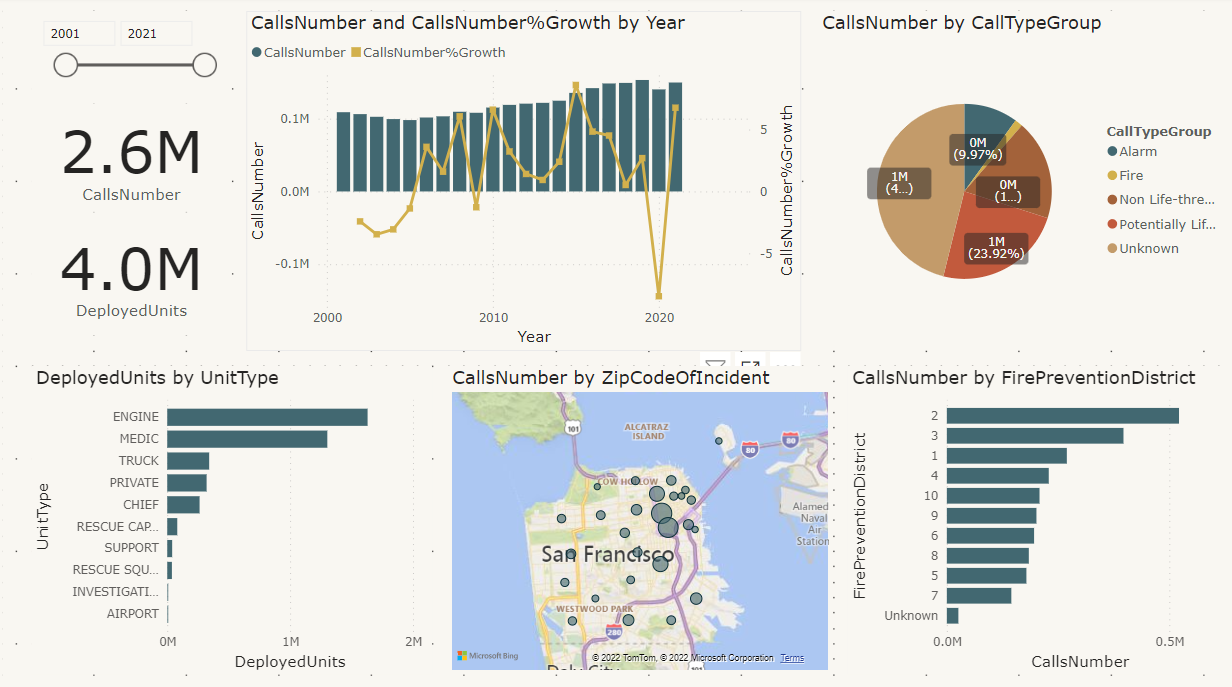

This screenshot's page, from the dashboard's own definition file:
{"tool":"powerbi","page":{"name":"Historical Analysis","canvas":[1280,720],"ordinal":0},"visuals":[{"type":"lineStackedColumnComboChart","fields":{"Y":["Calls.NumberOfCalls"],"Y2":["Calls.CallsNumber%Growth"],"Category":["ReceivedDate.Year"]},"box":[256,16,576,352],"z":0},{"type":"card","fields":{"Values":["CallUnits.NumberOfResponses"]},"box":[32,224,208,128],"z":1000},{"type":"card","fields":{"Values":["Calls.NumberOfCalls"]},"box":[32,112,208,112],"z":2000},{"type":"map","fields":{"Category":["Calls.ZipCodeOfIncident"],"Size":["Calls.NumberOfCalls"]},"box":[464,384,400,320],"z":3000},{"type":"slicer","fields":{"Values":["ReceivedDate.Year"]},"box":[32,16,208,96],"z":4000},{"type":"pieChart","fields":{"Y":["Calls.NumberOfCalls"],"Series":["Calls.CallTypeGroup"]},"box":[848,16,432,352],"z":5000},{"type":"barChart","fields":{"Category":["Units.UnitType"],"Y":["CallUnits.NumberOfResponses"]},"box":[32,384,416,320],"z":6000},{"type":"barChart","fields":{"Category":["Calls.FirePreventionDistrict"],"Y":["Calls.NumberOfCalls"]},"box":[880,384,400,320],"z":7000}]}

Visuals, with their boxes in screenshot pixels (x1, y1, x2, y2), scaled from the page's 1280x720 canvas onto the 1232x687 screenshot:
lineStackedColumnComboChart - Calls.NumberOfCalls x Calls.CallsNumber%Growth: {"left": 246, "top": 15, "right": 801, "bottom": 351}
card - CallUnits.NumberOfResponses: {"left": 31, "top": 214, "right": 231, "bottom": 336}
card - Calls.NumberOfCalls: {"left": 31, "top": 107, "right": 231, "bottom": 214}
map - Calls.ZipCodeOfIncident x Calls.NumberOfCalls: {"left": 447, "top": 366, "right": 832, "bottom": 672}
slicer - ReceivedDate.Year: {"left": 31, "top": 15, "right": 231, "bottom": 107}
pieChart - Calls.NumberOfCalls x Calls.CallTypeGroup: {"left": 816, "top": 15, "right": 1231, "bottom": 351}
barChart - Units.UnitType x CallUnits.NumberOfResponses: {"left": 31, "top": 366, "right": 431, "bottom": 672}
barChart - Calls.FirePreventionDistrict x Calls.NumberOfCalls: {"left": 847, "top": 366, "right": 1231, "bottom": 672}
